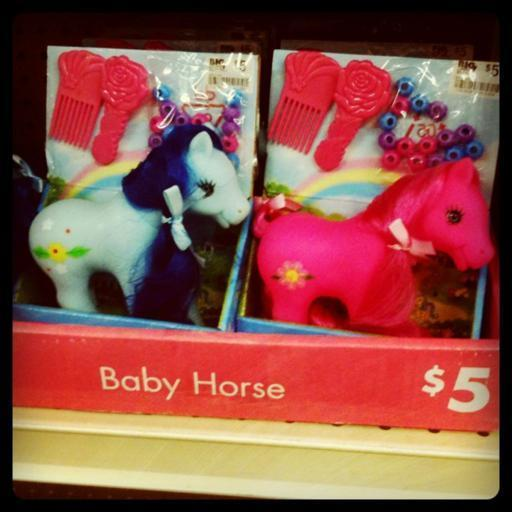horse: (252, 154, 498, 336), (28, 132, 254, 314)
